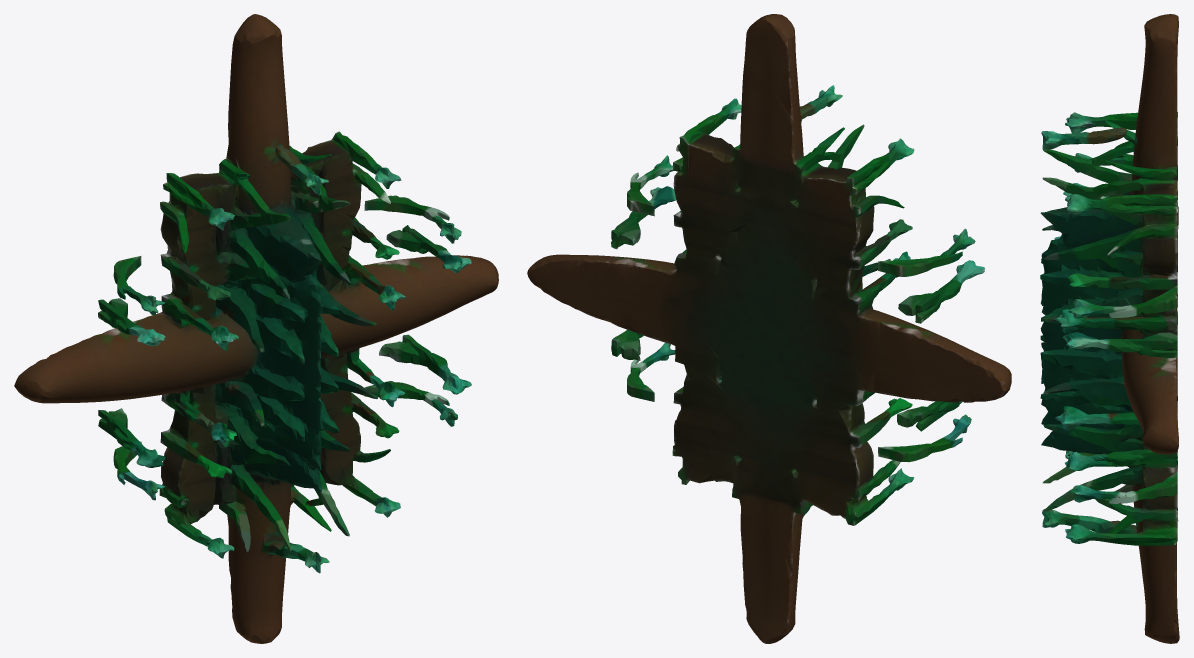
The model's file is Pandora_VineCurtain.glb.
3 renders of one model, left to right at view 1: azimuth 30°, elevation 25°; view 2: azimuth 150°, elevation 25°; view 3: azimuth 270°, elevation 25°, orthographic.
Visible parts, largest first — view 1: Pandora_VineCurtain_Body; view 2: Pandora_VineCurtain_Body; view 3: Pandora_VineCurtain_Body.
Boxes of the visible parts, x1,y1,x2,y2 form: Pandora_VineCurtain_Body: (14,14,498,643); Pandora_VineCurtain_Body: (527,14,1011,643); Pandora_VineCurtain_Body: (1040,14,1179,643).
Bounding box in the file's own units: 3.68 × 4.6 × 0.927.
1 material, 1 textured.
